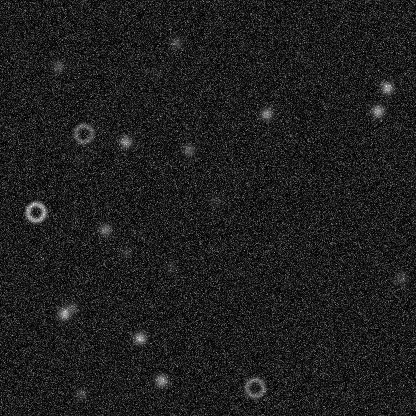Ring: (71, 121, 95, 145), (23, 200, 47, 224), (242, 375, 266, 399)
Spot: (258, 105, 274, 121), (392, 270, 408, 286), (148, 63, 164, 79), (369, 103, 385, 119), (153, 372, 169, 388), (180, 142, 196, 158), (117, 133, 133, 149), (71, 150, 87, 166), (207, 192, 223, 208), (96, 221, 112, 237), (168, 34, 184, 50), (162, 259, 178, 275), (55, 305, 71, 321), (131, 329, 147, 345), (50, 58, 66, 74), (117, 244, 133, 260), (378, 79, 394, 95), (63, 299, 79, 315), (72, 385, 88, 401)
